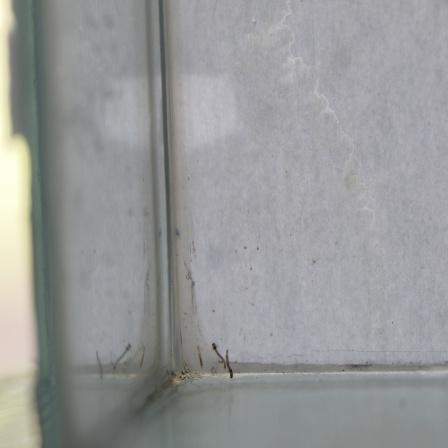Jentik-Nyamuk: (207, 337, 235, 385)
